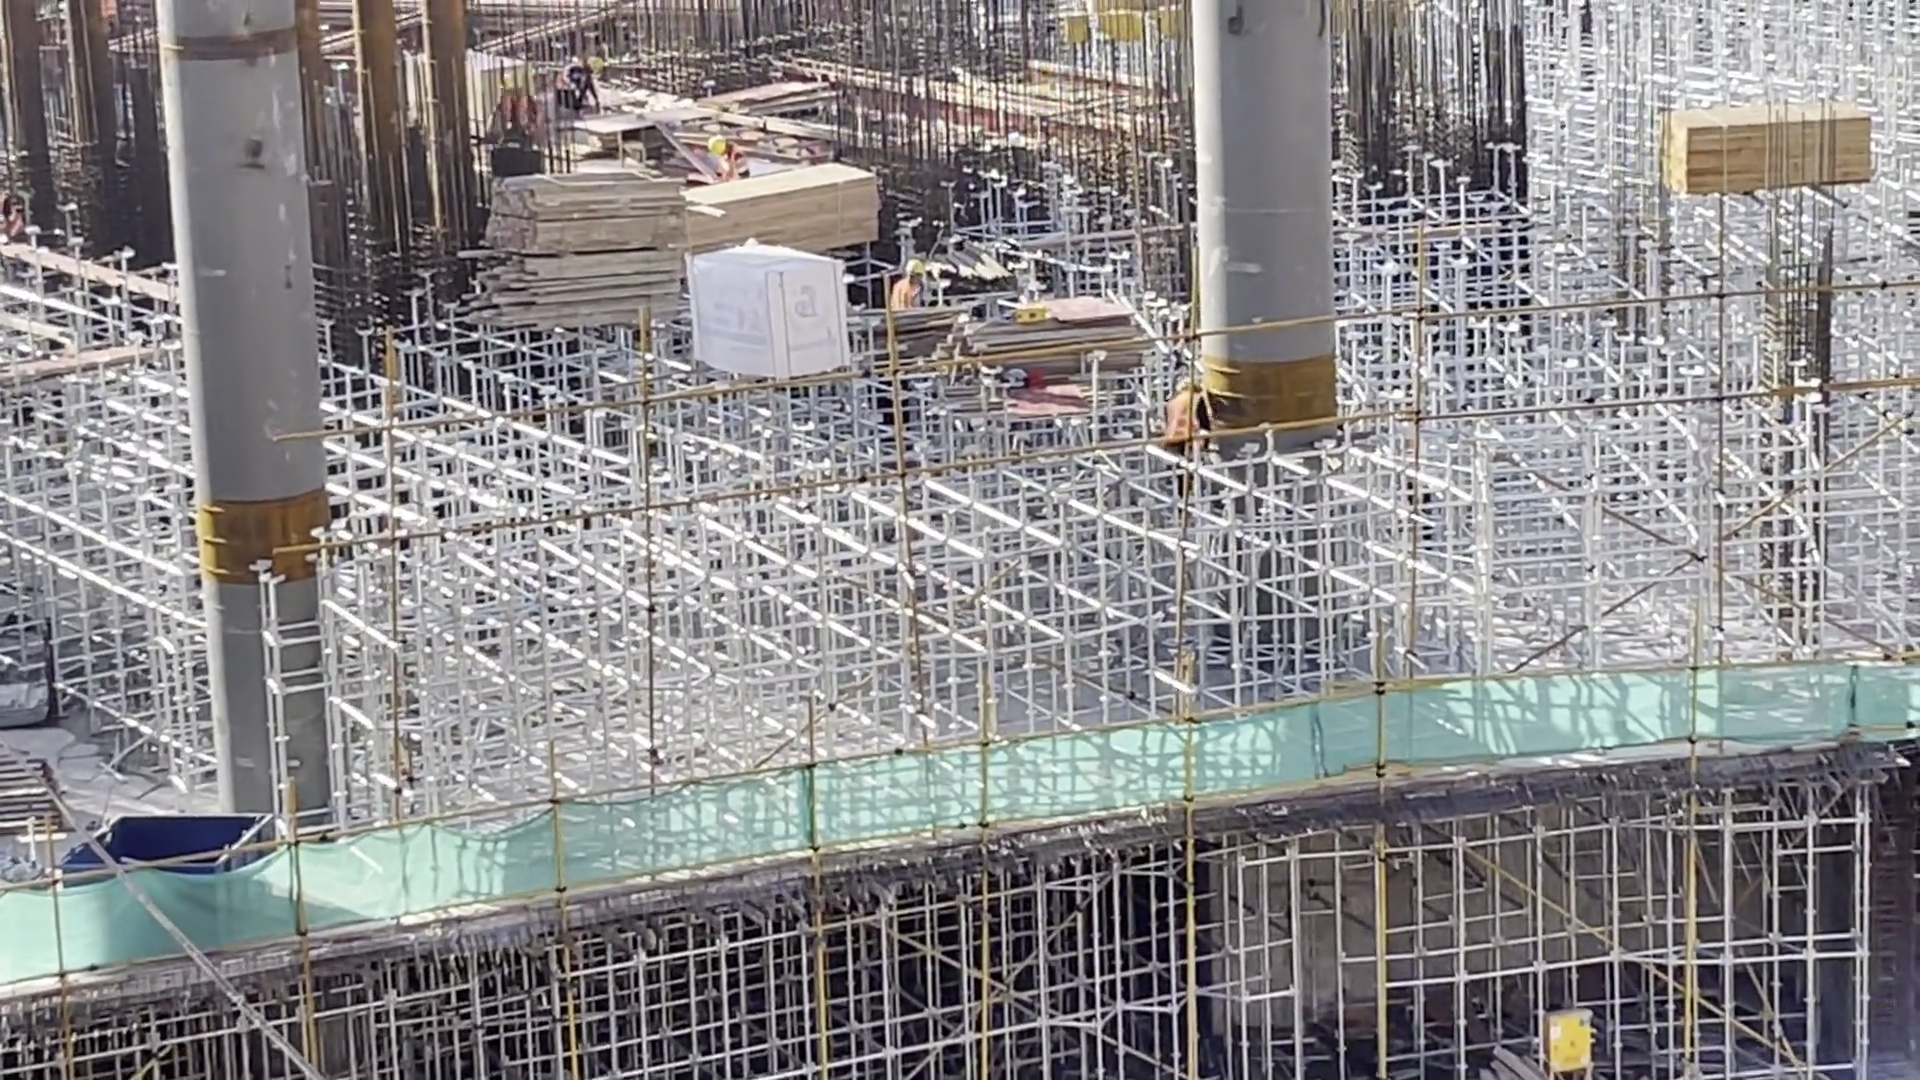board: (952, 290, 1166, 375)
ebox: (1544, 1005, 1598, 1080)
helmet: (707, 136, 731, 155), (905, 258, 923, 279), (585, 57, 604, 75)
hopper: (43, 808, 277, 857)
person: (1160, 377, 1213, 453), (555, 55, 603, 114), (706, 133, 750, 177), (891, 258, 929, 307)
vest: (1164, 393, 1213, 440), (892, 280, 924, 307), (559, 64, 582, 92)
wood: (467, 172, 688, 327), (1656, 98, 1877, 200), (684, 158, 881, 248)
